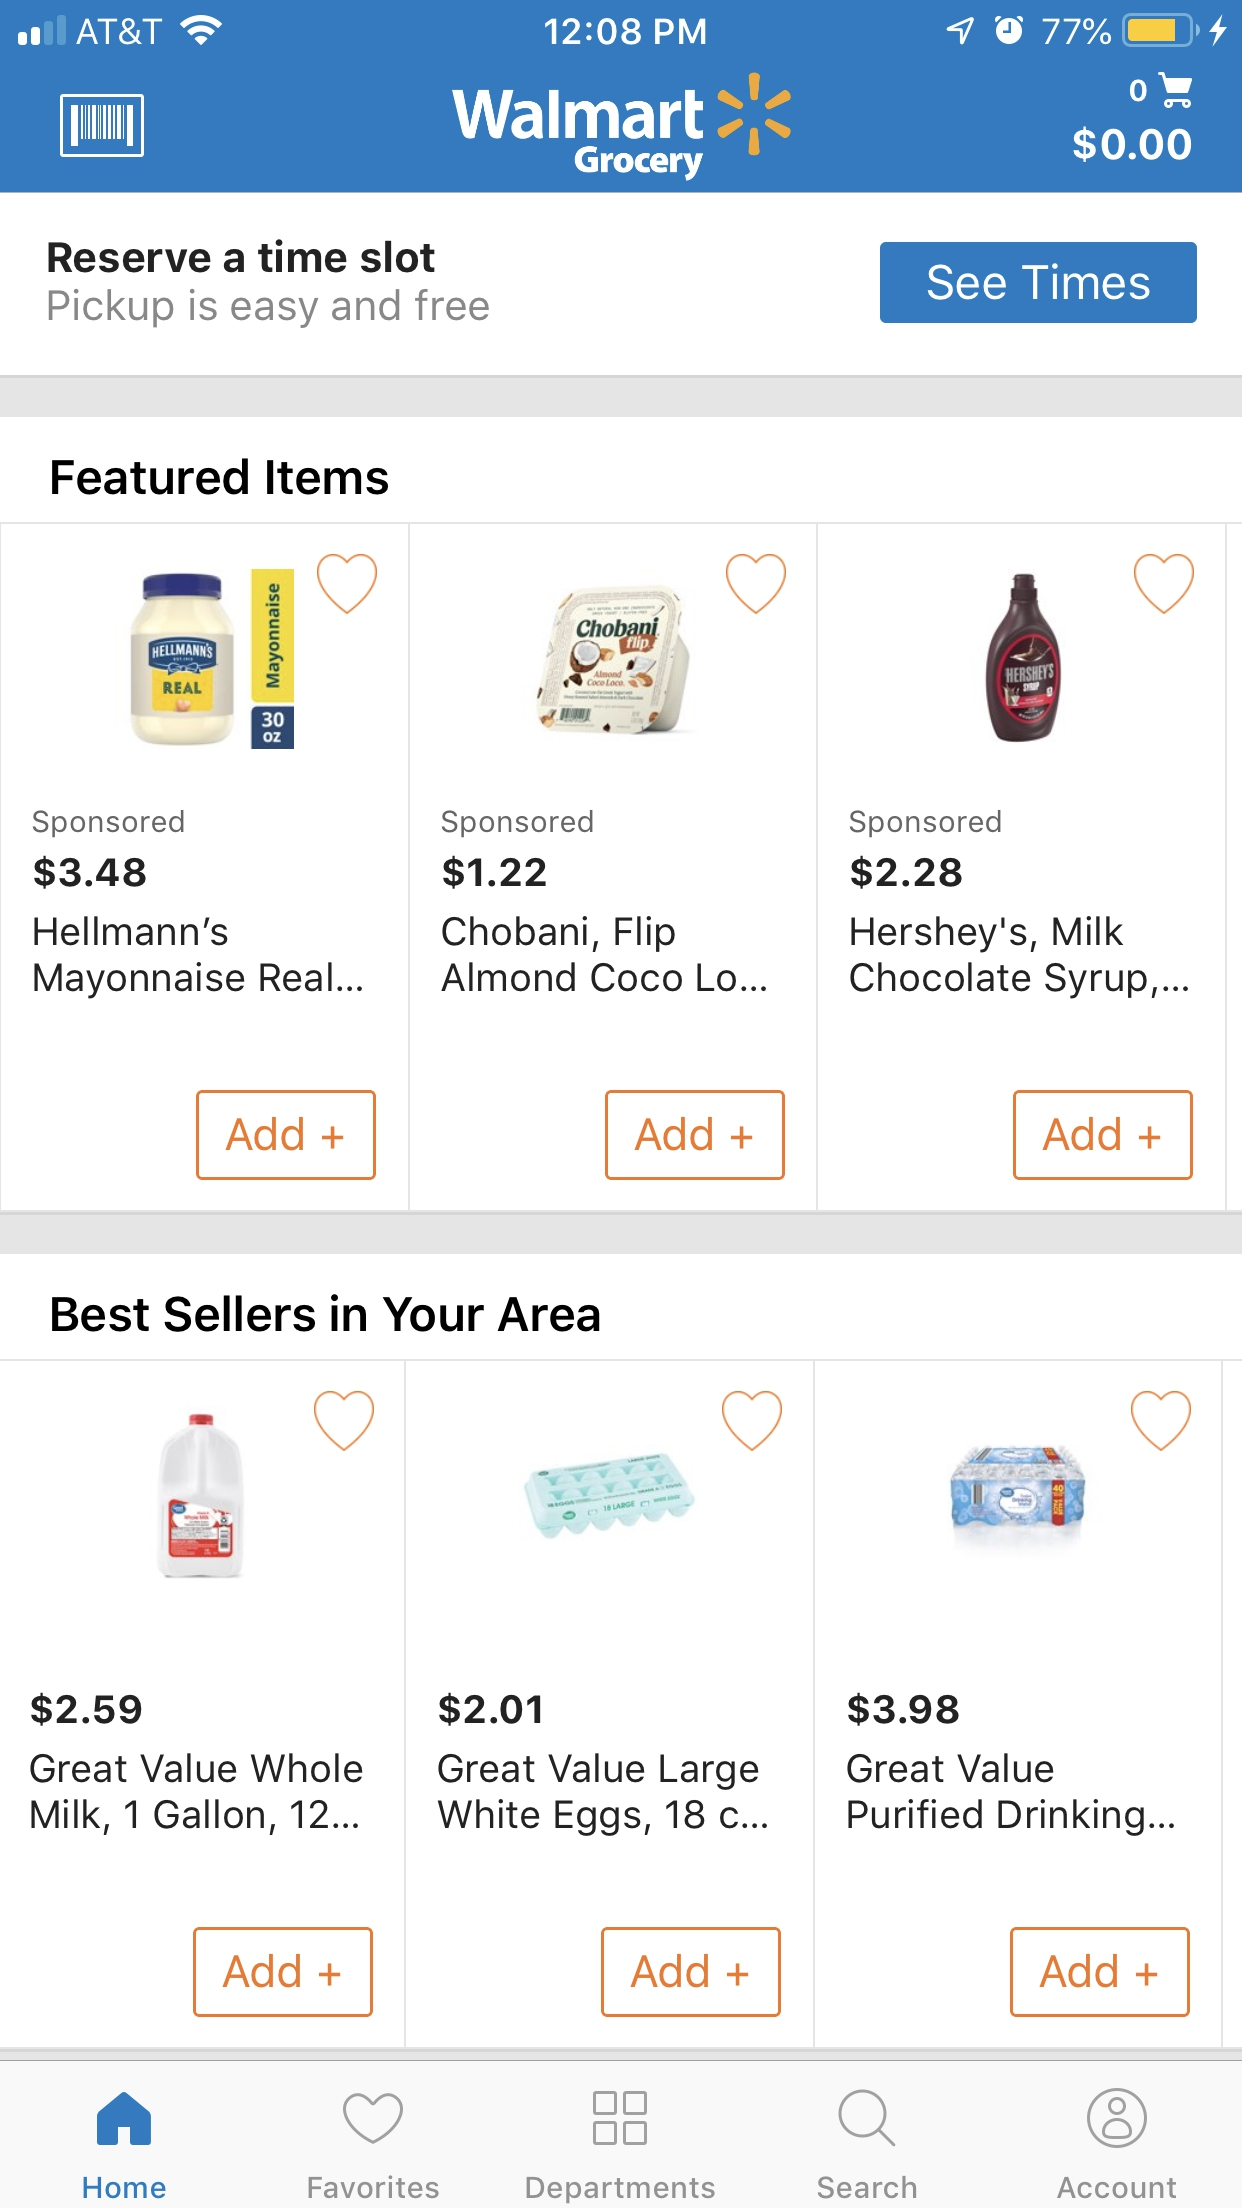Icon: (312, 1389, 376, 1451), (1133, 554, 1195, 616), (725, 554, 787, 616), (1087, 2087, 1148, 2149), (317, 554, 379, 614), (722, 1391, 783, 1451), (1131, 1391, 1190, 1451), (837, 2088, 896, 2147), (343, 2093, 405, 2144), (593, 2091, 648, 2146), (99, 2091, 153, 2146), (1157, 71, 1193, 111)
Image: (130, 569, 296, 751), (535, 585, 692, 737), (525, 1451, 696, 1538), (156, 1413, 246, 1579), (986, 575, 1062, 743), (951, 1447, 1084, 1542), (717, 71, 793, 158), (61, 94, 146, 158)
Text: (849, 914, 1189, 999), (30, 1752, 364, 1836), (33, 916, 364, 1001), (437, 1752, 767, 1836), (848, 1752, 1175, 1836), (441, 916, 767, 993), (452, 89, 704, 183), (52, 1295, 601, 1335), (49, 288, 491, 331), (49, 240, 437, 274), (52, 459, 390, 497), (526, 2176, 716, 2203), (33, 810, 187, 840), (1074, 124, 1192, 162), (441, 810, 594, 839), (849, 810, 1002, 839), (33, 855, 149, 892), (851, 855, 963, 890), (32, 1692, 144, 1727), (848, 1692, 960, 1727), (443, 855, 547, 890), (438, 1692, 541, 1727), (308, 2175, 440, 2199), (1057, 2178, 1177, 2200), (817, 2175, 917, 2200), (83, 2176, 167, 2199), (1128, 80, 1148, 105)
TextButton: (880, 243, 1198, 325), (193, 1926, 375, 2018), (601, 1927, 783, 2018), (196, 1090, 378, 1181), (1010, 1927, 1190, 2018), (605, 1090, 786, 1181), (1013, 1090, 1193, 1181)
UpperTaskBar: (2, 2, 1242, 49)
